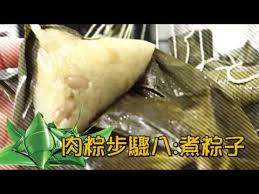zongzi: (30, 25, 154, 129)
